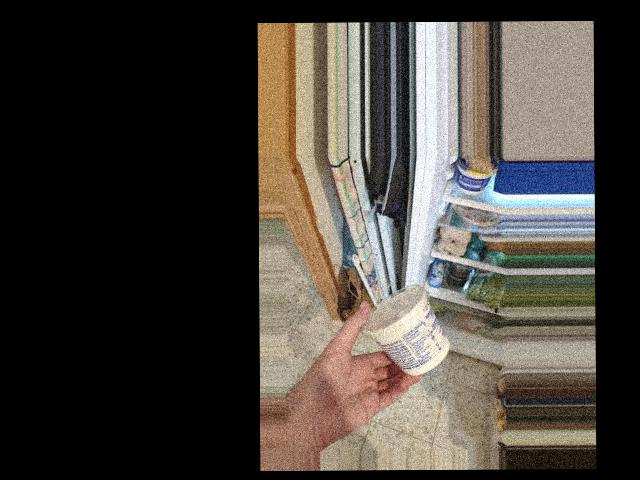cotage: (355, 296, 440, 374)
